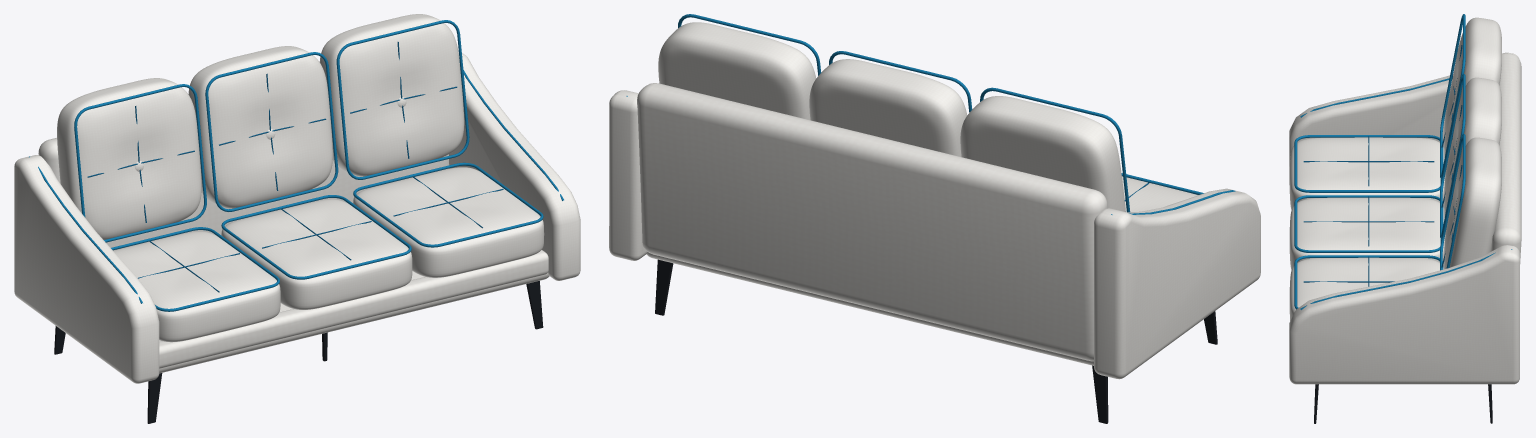
File: butterfly-1880-lod0.glb
3 renders of one model, left to right at view 1: azimuth 30°, elevation 25°; view 2: azimuth 150°, elevation 25°; view 3: azimuth 270°, elevation 25°, orthographic. The views are drawn at different scales.
Parts seen in each view (by area): view 1: back_cushion_01, back_cushion_02, back_cushion_03, arm_left, frame, seat_cushion_02, seat_cushion_03, seat_cushion_01, arm_right, leg_front_right; view 2: frame, arm_left, back_cushion_01, back_cushion_03, back_cushion_02, arm_right, seat_cushion_01, leg_rear_right, leg_rear_left; view 3: arm_right, seat_cushion_02, seat_cushion_01, arm_left, back_cushion_03, seat_cushion_03, frame, back_cushion_01, back_cushion_02.
Boxes of the visible parts, bbox=[...] form: back_cushion_01: bbox=[57, 78, 206, 242]; back_cushion_02: bbox=[188, 46, 338, 211]; back_cushion_03: bbox=[319, 14, 469, 179]; arm_left: bbox=[14, 155, 159, 383]; frame: bbox=[38, 138, 549, 373]; seat_cushion_02: bbox=[221, 195, 412, 309]; seat_cushion_03: bbox=[353, 162, 544, 277]; seat_cushion_01: bbox=[111, 227, 280, 342]; arm_right: bbox=[449, 52, 580, 280]; leg_front_right: bbox=[526, 281, 543, 329]; frame: bbox=[637, 83, 1107, 365]; arm_left: bbox=[1094, 188, 1260, 379]; back_cushion_01: bbox=[960, 87, 1130, 212]; back_cushion_03: bbox=[658, 14, 821, 119]; back_cushion_02: bbox=[809, 51, 972, 156]; arm_right: bbox=[609, 90, 647, 260]; seat_cushion_01: bbox=[1121, 173, 1203, 212]; leg_rear_right: bbox=[655, 259, 673, 315]; leg_rear_left: bbox=[1092, 365, 1108, 423]; arm_right: bbox=[1289, 245, 1519, 384]; seat_cushion_02: bbox=[1289, 195, 1446, 269]; seat_cushion_01: bbox=[1289, 135, 1446, 209]; arm_left: bbox=[1289, 52, 1519, 184]; back_cushion_03: bbox=[1440, 134, 1501, 270]; seat_cushion_03: bbox=[1289, 255, 1443, 320]; frame: bbox=[1491, 53, 1521, 263]; back_cushion_01: bbox=[1440, 14, 1501, 178]; back_cushion_02: bbox=[1440, 74, 1501, 238].
Bounding box in the file's own units: 1.88 × 1.02 × 0.9.
Materials: 4 (1 with a texture image).
